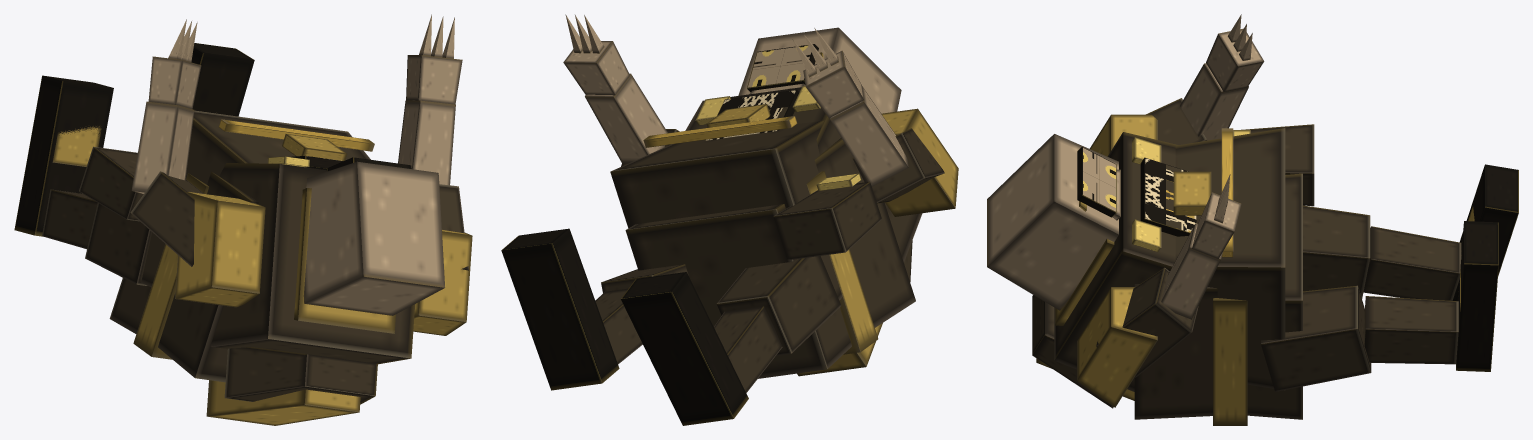
The model's file is margor_attack.obj.
3 views of the same model, side by side, from view 1: azimuth 30°, elevation 25°; view 2: azimuth 150°, elevation 25°; view 3: azimuth 270°, elevation 25° (orthographic). The views are drawn at different scales.
Parts seen in each view (by area): view 1: margor_attack; view 2: margor_attack; view 3: margor_attack.
Boxes of the visible parts, left/top/right/bottom form: margor_attack: left=14, top=14, right=472, bottom=425; margor_attack: left=501, top=14, right=958, bottom=425; margor_attack: left=987, top=14, right=1518, bottom=425.
Bounding box in the file's own units: 0.7481 × 0.8159 × 1.04.
1 material, 1 textured.
